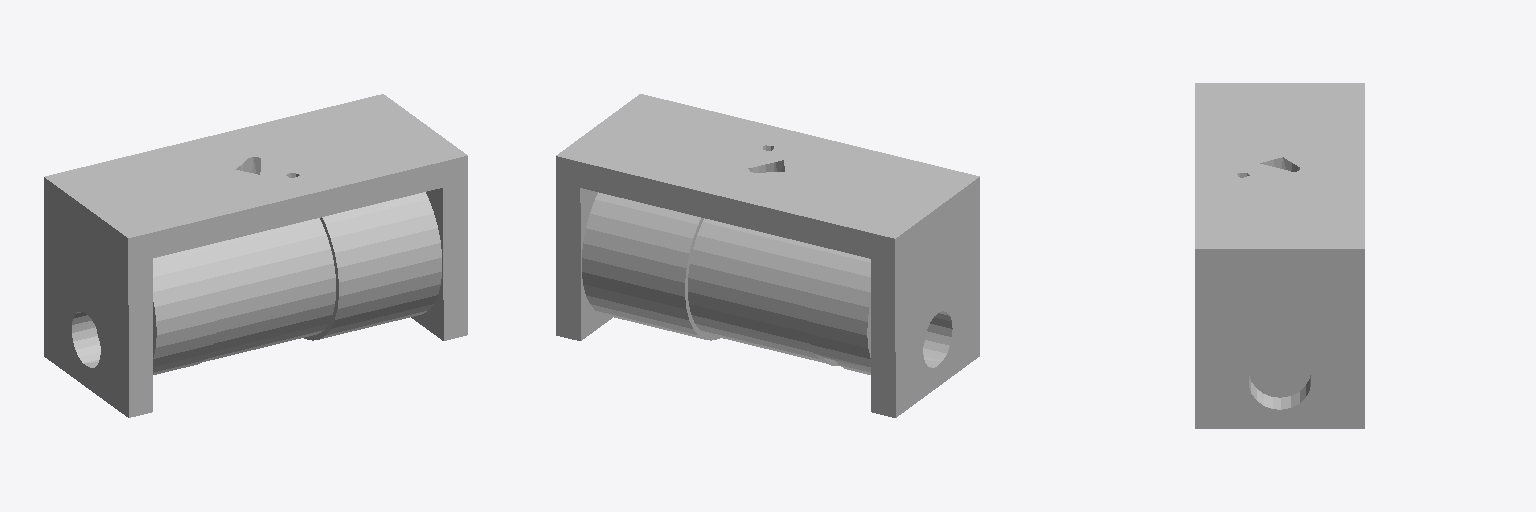
The model's file is roll1.obj.
3 views of the same model, side by side, from view 1: azimuth 30°, elevation 25°; view 2: azimuth 150°, elevation 25°; view 3: azimuth 270°, elevation 25° (orthographic).
Bounding box in the file's own units: 87 × 44.03 × 37.69.